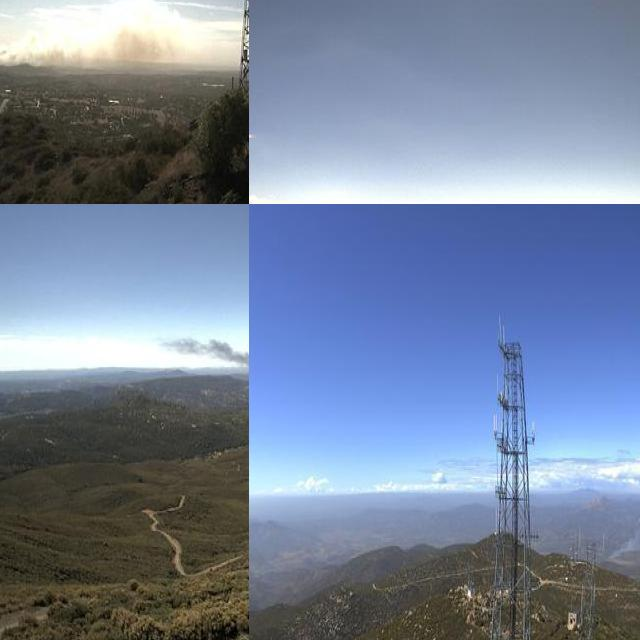smoke: (0, 4, 182, 75), (154, 329, 249, 380), (604, 506, 640, 564)
